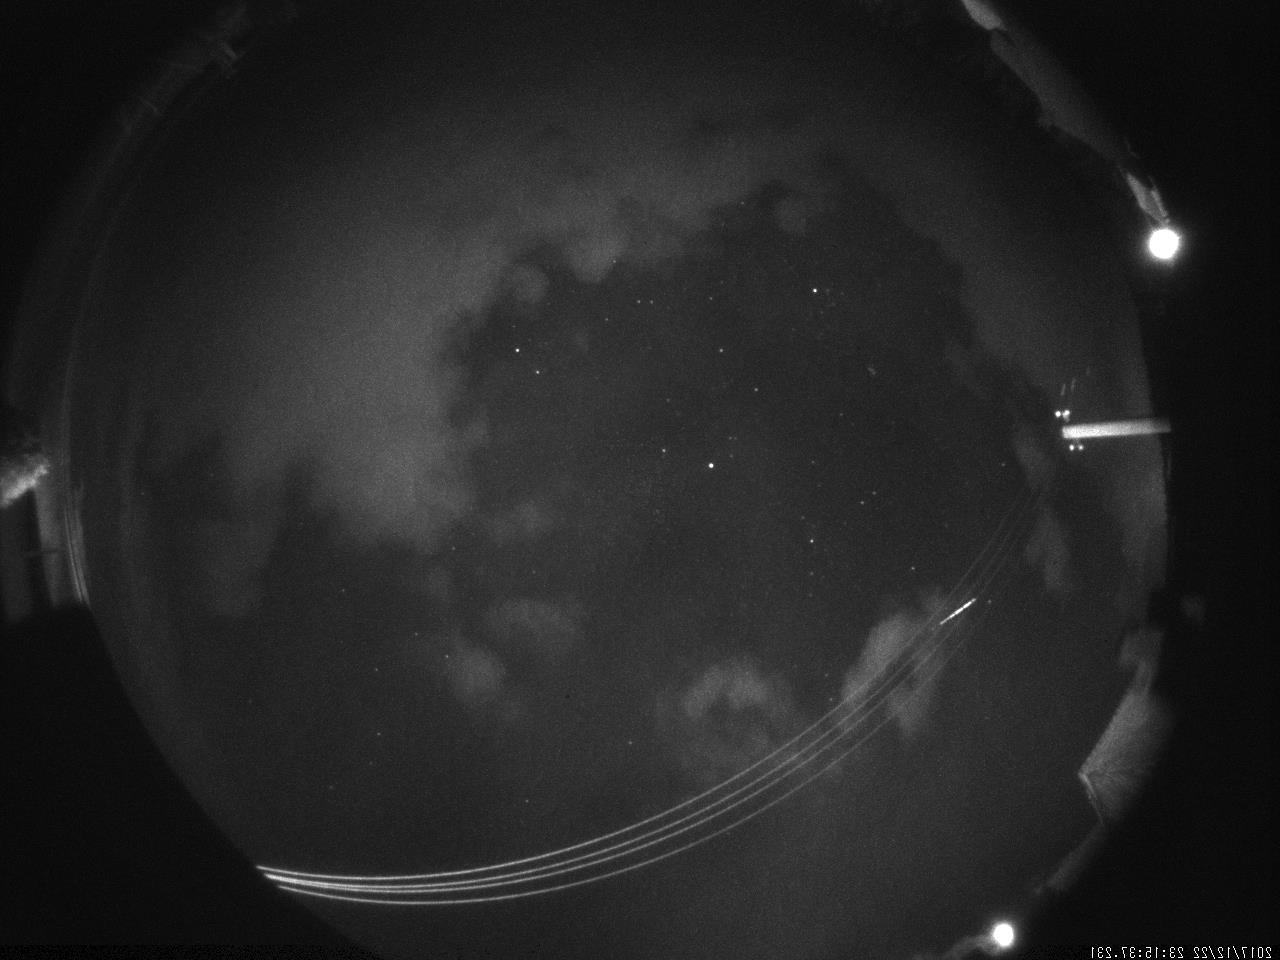meteor: (910, 584, 1019, 633)
